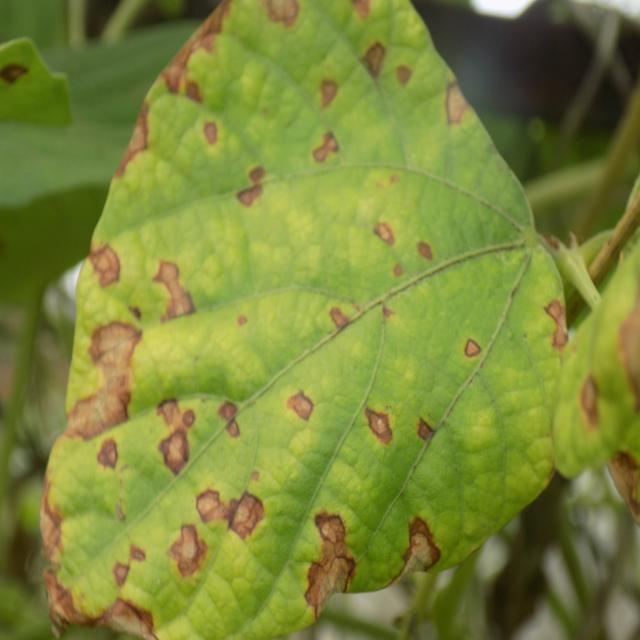Dolicos bean_cercospora leaf spot: (45, 0, 565, 640)
